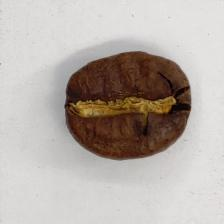NG: (80, 66, 181, 141)
